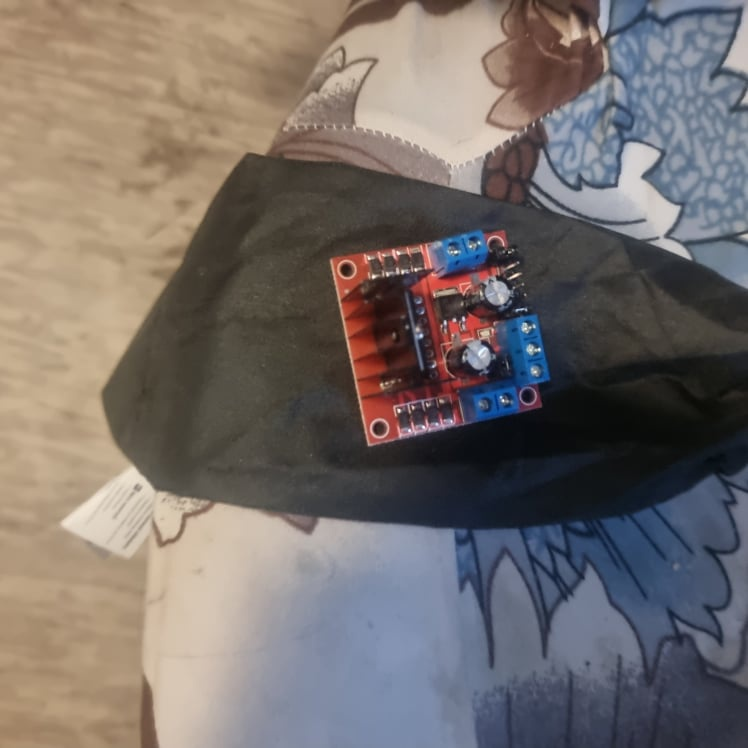MOTOR: (323, 225, 554, 453)
